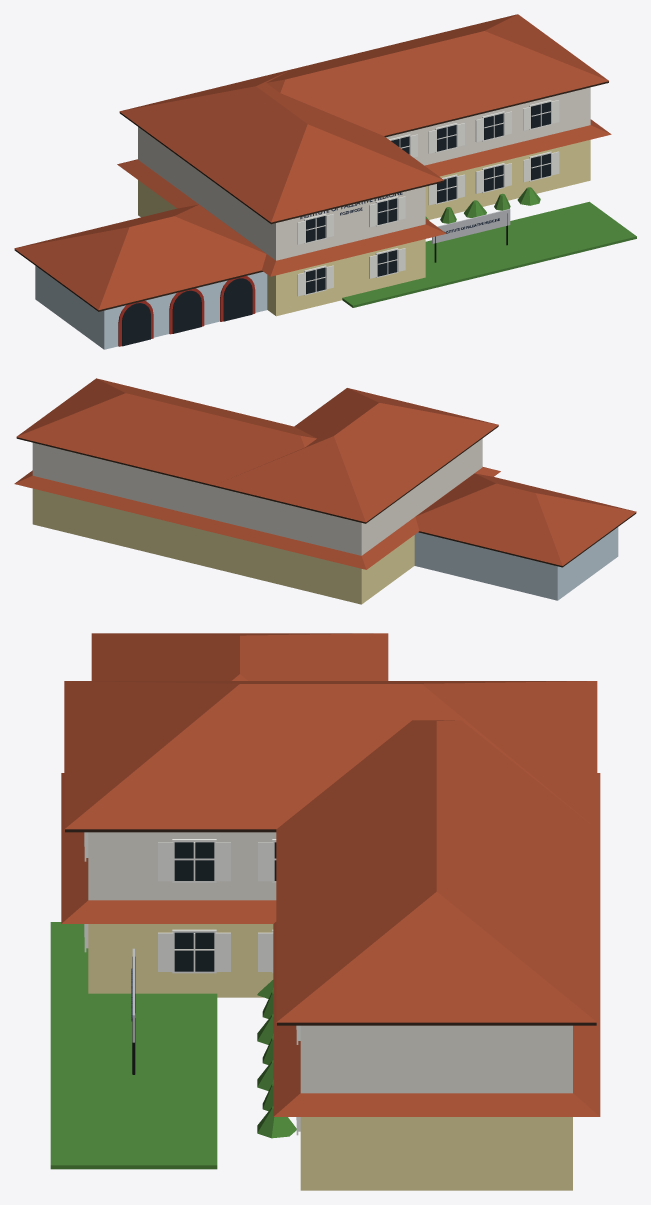
The model's file is ipm.glb.
The picture shows the model from 3 angles, top to bottom: view 1: azimuth 30°, elevation 25°; view 2: azimuth 150°, elevation 25°; view 3: azimuth 270°, elevation 25°; orthographic projection. The views are drawn at different scales.
Visible parts, largest first — view 1: ipm; view 2: ipm; view 3: ipm.
Part boxes in pixels (x1,y1,x2,y2): ipm: (14,14,636,349); ipm: (14,378,636,604); ipm: (50,633,600,1190).
Bounding box in the file's own units: 37.8 × 9.1 × 18.15.
